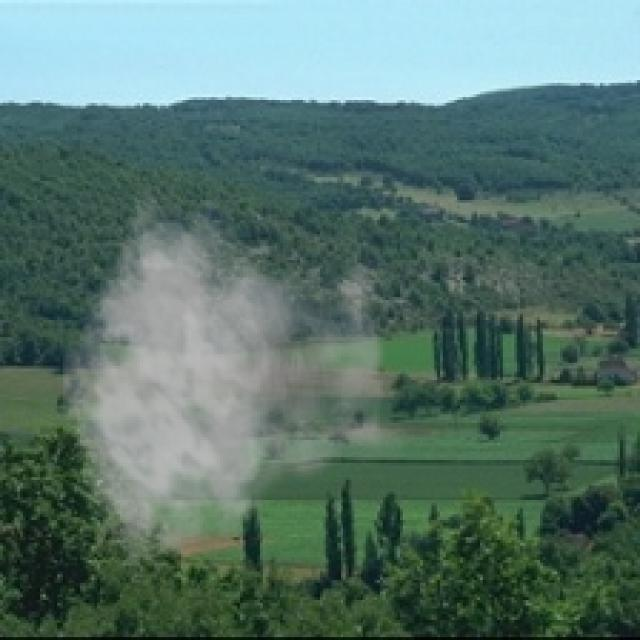Smoke: (60, 186, 417, 572)
